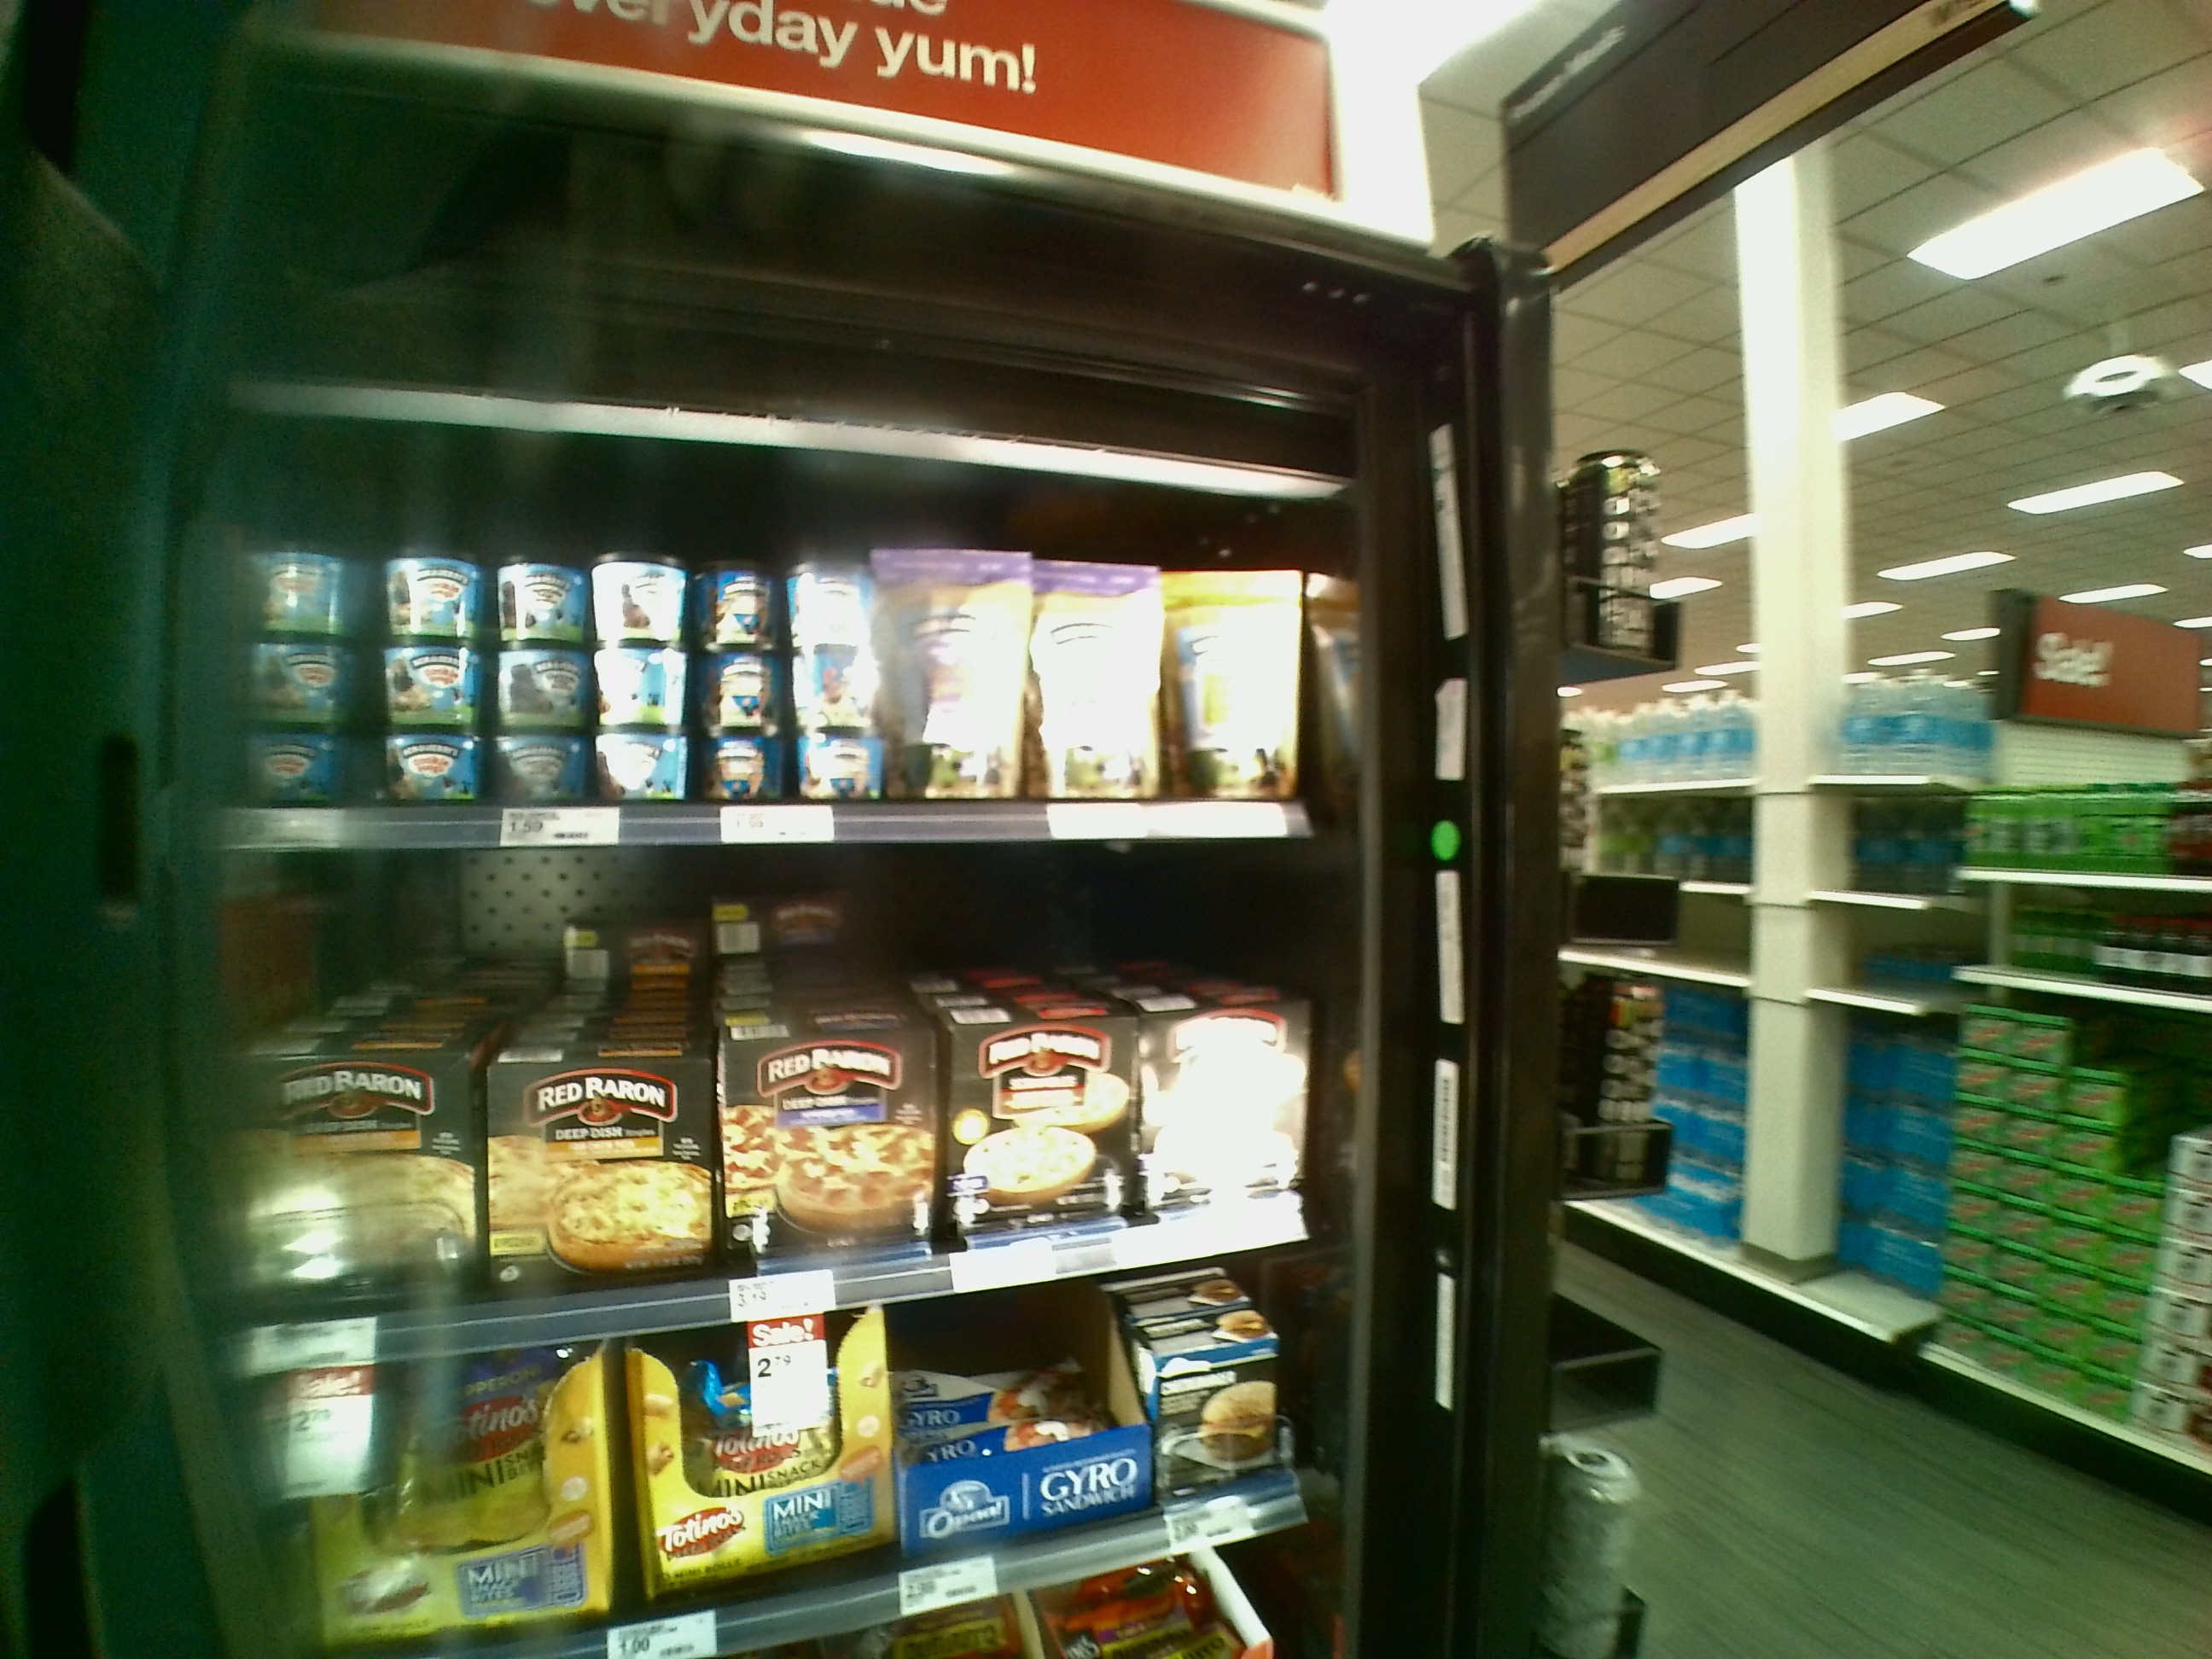shelf: (226, 854, 1336, 1316), (218, 406, 1306, 833), (260, 1279, 1355, 1610)
